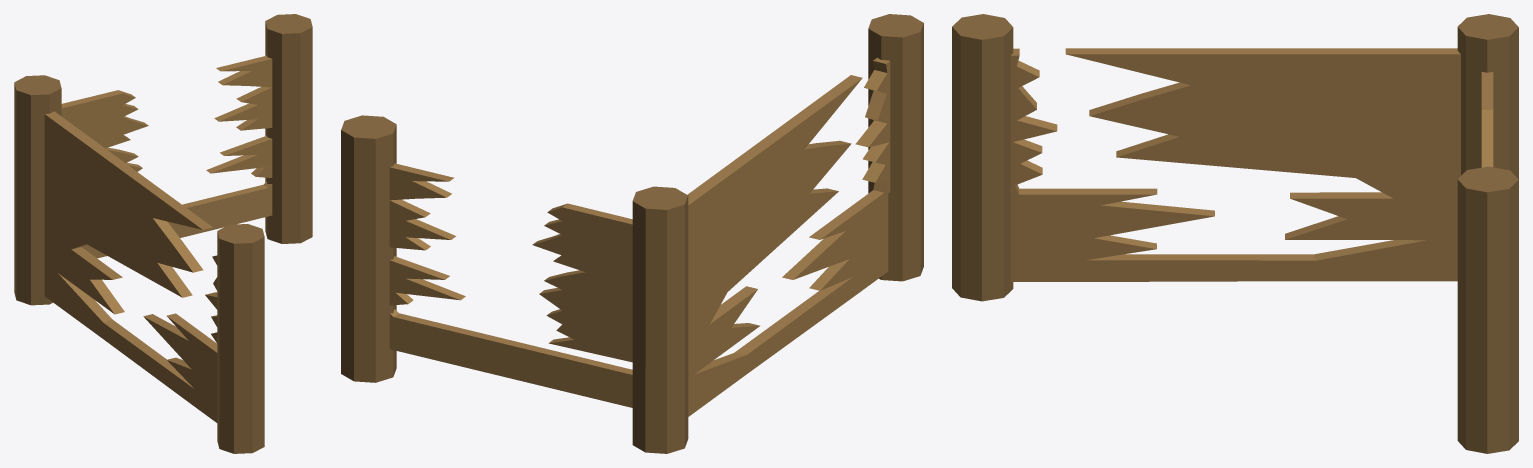
Rendered from RuinedHouseStuff5.fbx.
The picture shows the model from 3 angles, left to right: view 1: azimuth 30°, elevation 25°; view 2: azimuth 150°, elevation 25°; view 3: azimuth 270°, elevation 25°; orthographic projection. The views are drawn at different scales.
Visible parts, largest first — view 1: Cylinder.013; view 2: Cylinder.013; view 3: Cylinder.013.
Boxes of the visible parts, x1,y1,x2,y2 form: Cylinder.013: [14, 14, 312, 453]; Cylinder.013: [341, 14, 923, 453]; Cylinder.013: [952, 14, 1518, 453].
Size of the model in its own units: 313 by 214 by 421.
